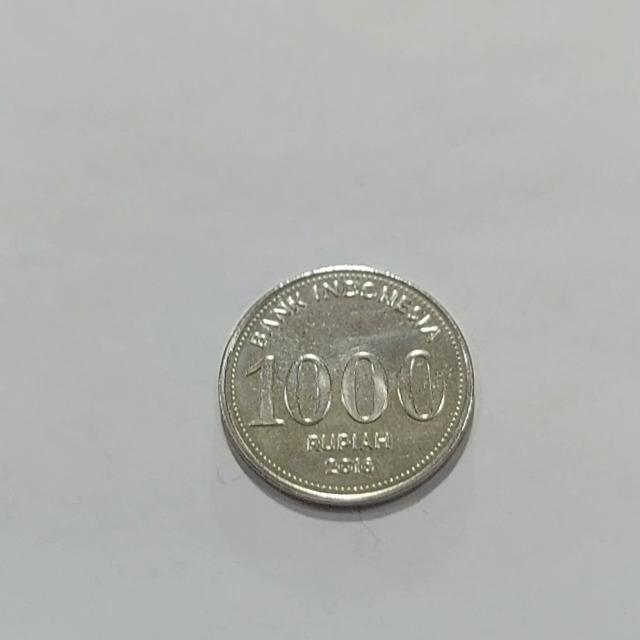Rp100: (216, 262, 476, 509)
